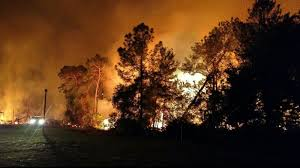fire: (162, 65, 220, 116)
smoke: (1, 13, 90, 61)
